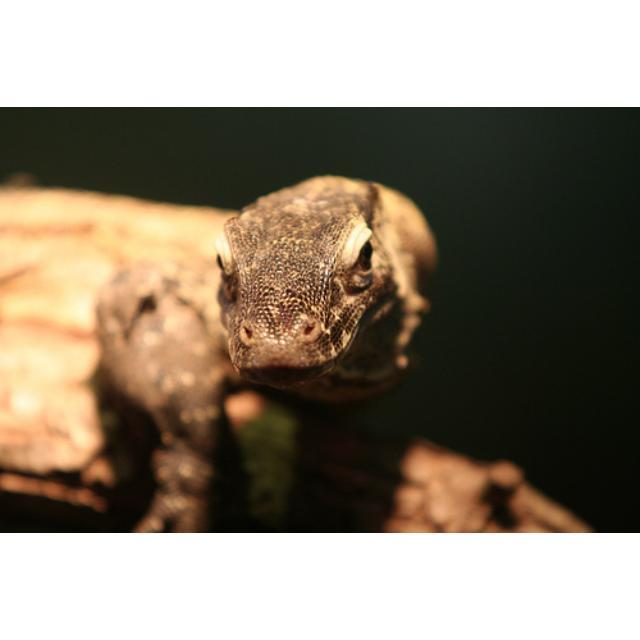KomodoDragon: (96, 170, 440, 530)
